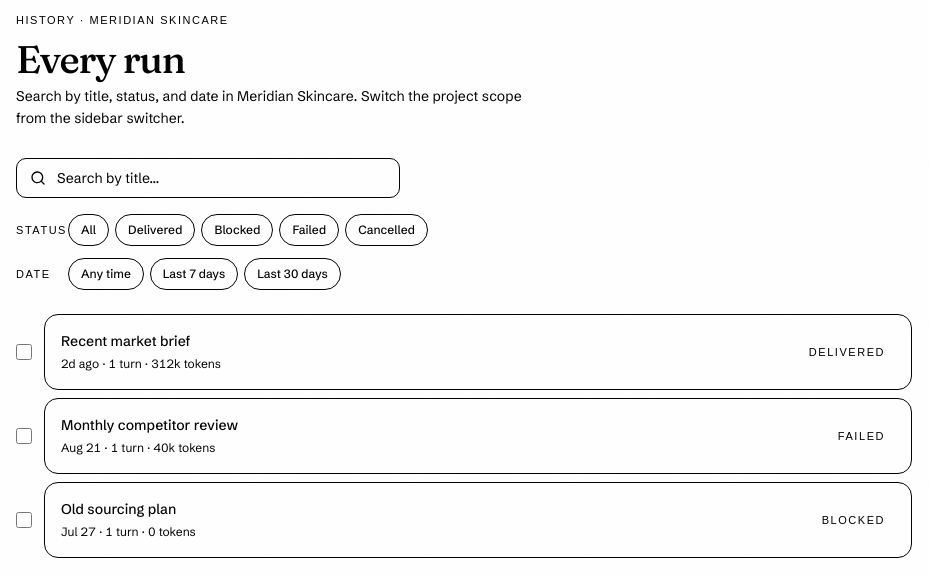
Test case: HistoryPage › filters sessions to the last 7 or 30 days
Click the radio button labelled "Last 7 days".
click(194, 274)  # box [150,258,238,290]
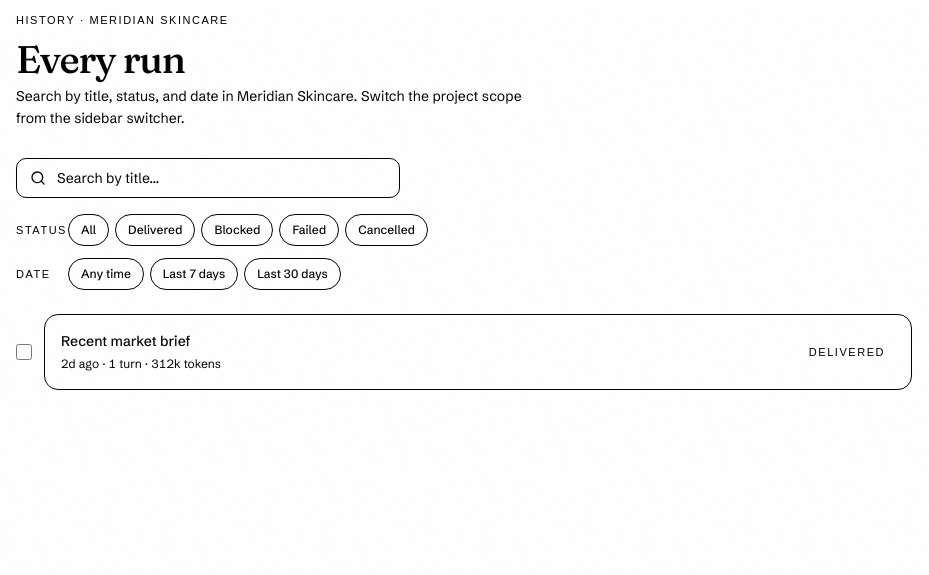
Check: the text "Recent market brief" is shown, box [61,332,190,350]
Check: the link "Monthly competitor review" is gone
Check: the link "Old sourcing plan" is gone
Click the radio button labelled "Last 30 days".
click(292, 274)  # box [244,258,341,290]
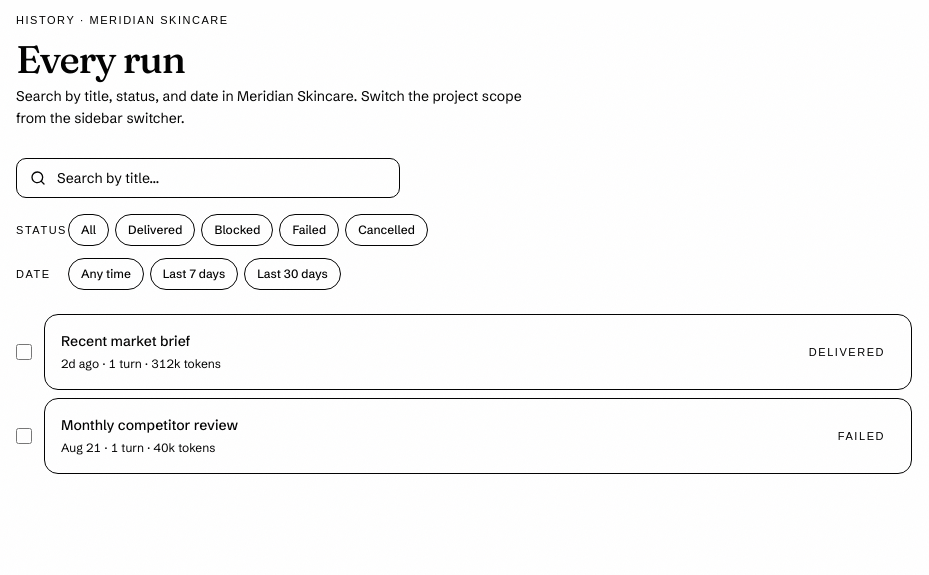
Check: the text "Recent market brief" is shown, box [61,332,190,350]
Check: the text "Monthly competitor review" is shown, box [61,416,238,434]
